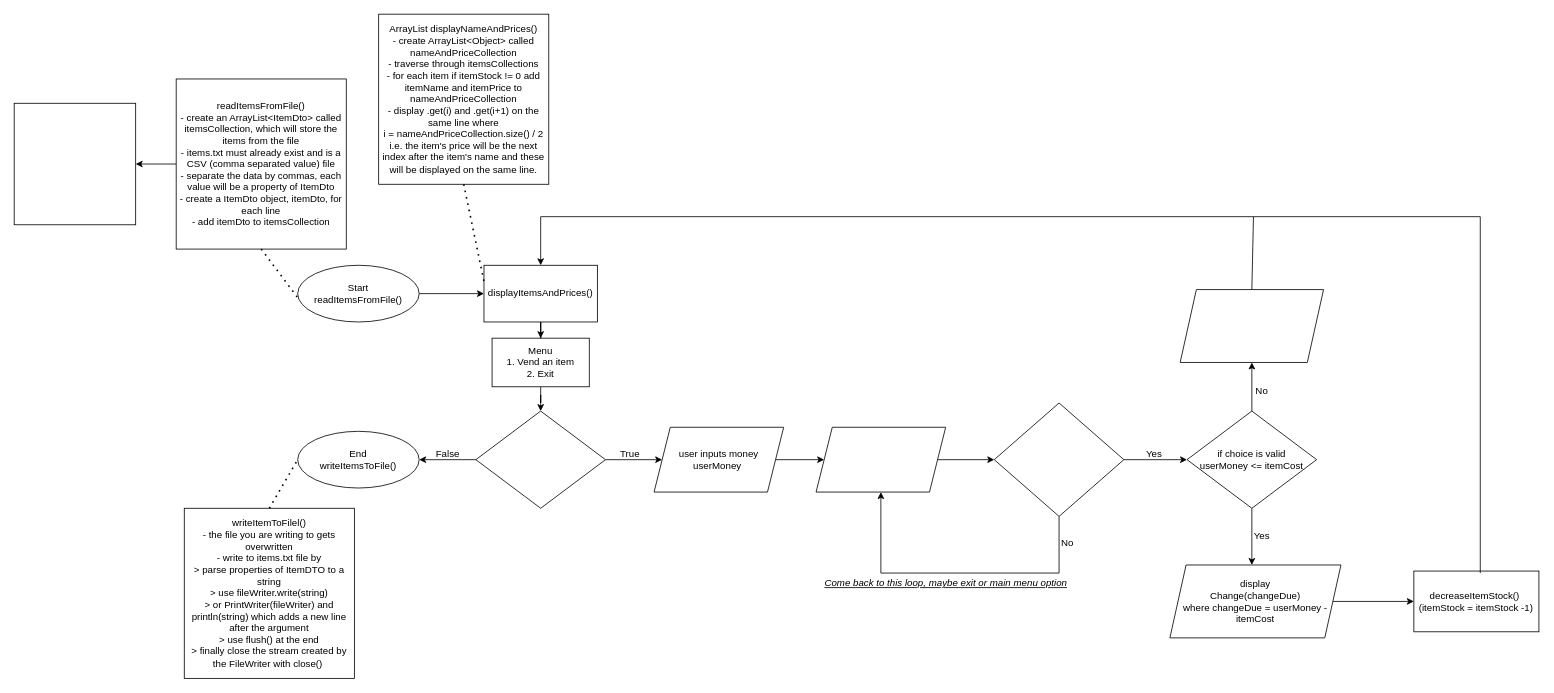
Some shapes in this 1554 by 693 pixel diagram are drawn without their labels. The shapes that lost their labels are listed below. From the top down, each one's box as (x1, y1, x2, y2) in pixels, then its label:
(13, 102, 136, 225): FileReader BufferedReader while hasNextLine() { .readline() }
(1179, 289, 1324, 362): Display "insufficient funds" and userMoney
(475, 410, 605, 508): while (userChoice != 2)
(815, 426, 946, 492): user inputs itemId
(993, 402, 1124, 516): confirm user choice fetchItem()
